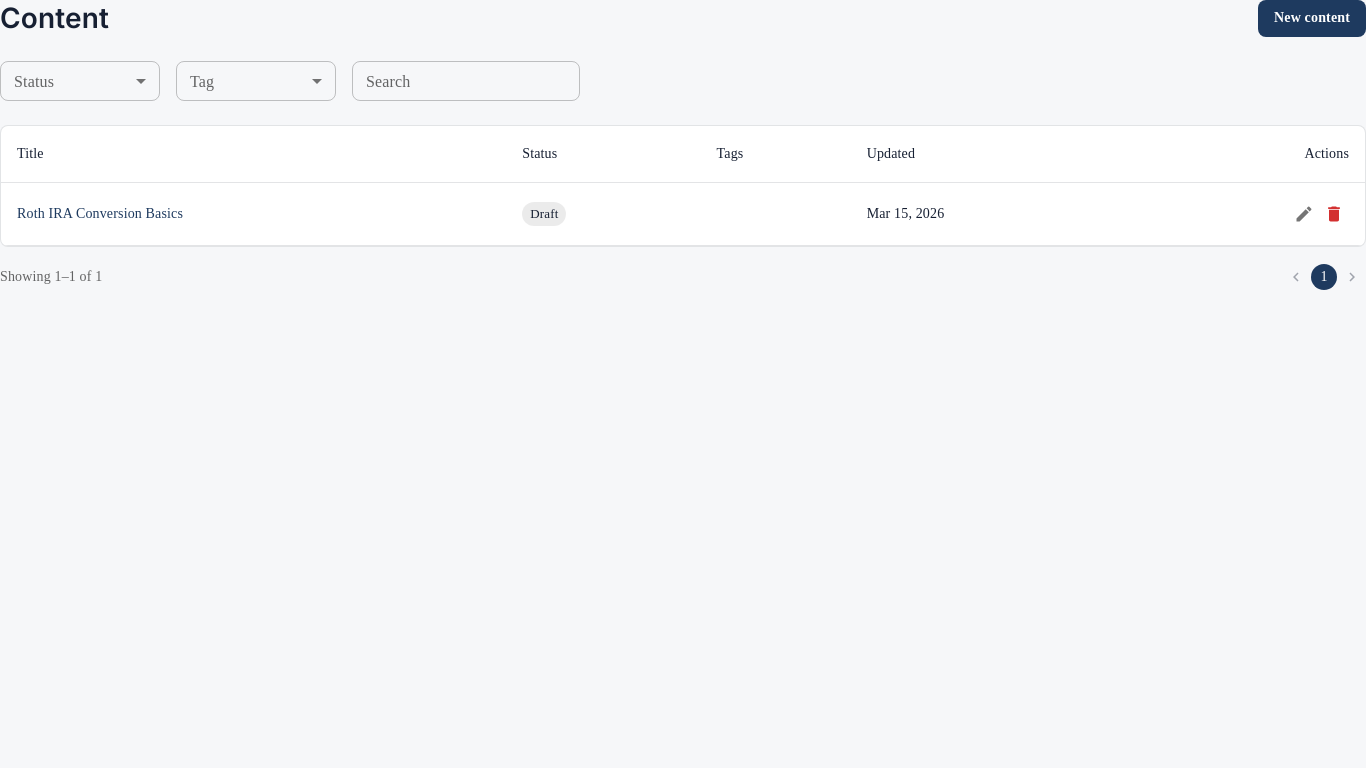
Test case: ContentListScreen delete-error surfacing › a DELETE 500 with an envelope body keeps the dialog open and shows the message as an alert; retrying then succeeds
The width and height of the screenshot is (1366, 768).
Expected: the row "Roth IRA Conversion Basics Draft Mar 15, 2026" is shown, x1=1 y1=182 x2=1365 y2=245
Click the button named "Delete Roth IRA Conversion Basics" at (1334, 214), box x1=1319 y1=198 x2=1349 y2=228
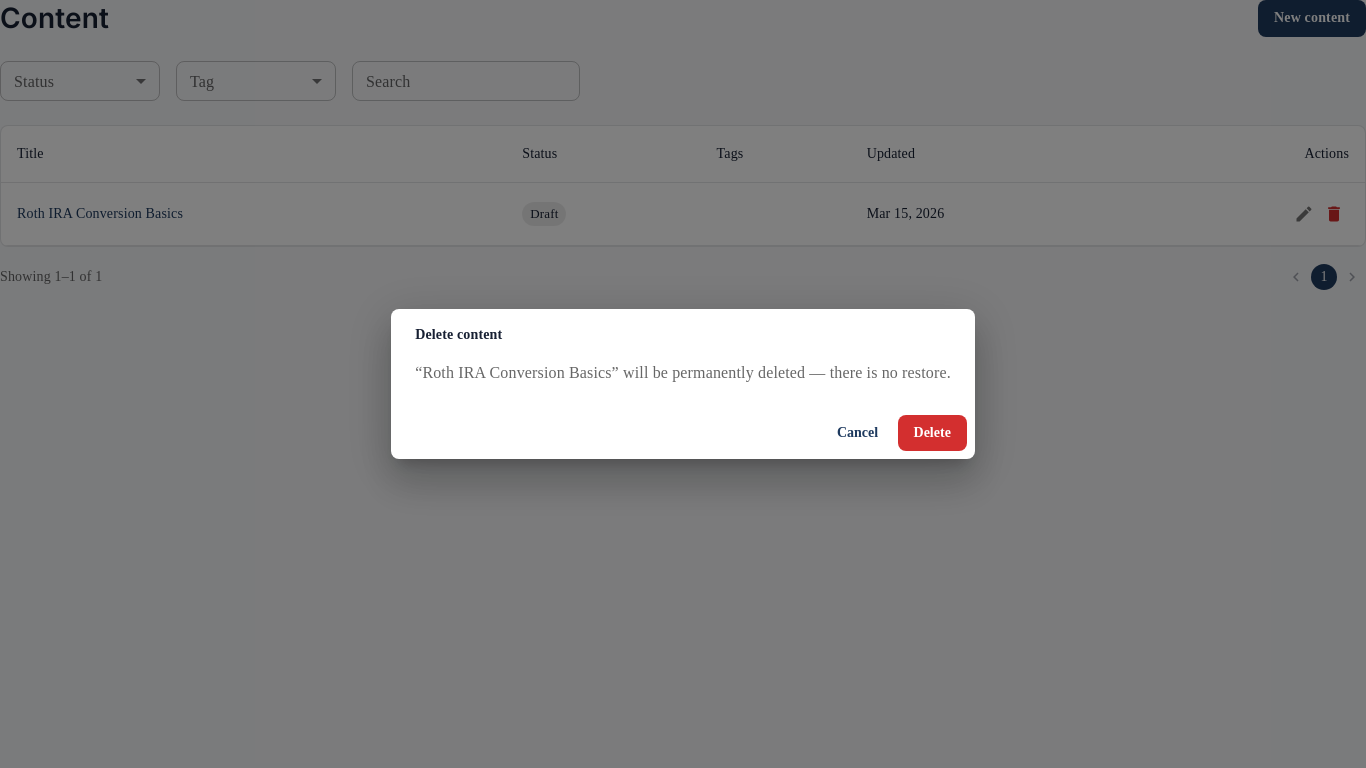
Click the button "Delete" at (932, 433), box x1=898 y1=415 x2=967 y2=451
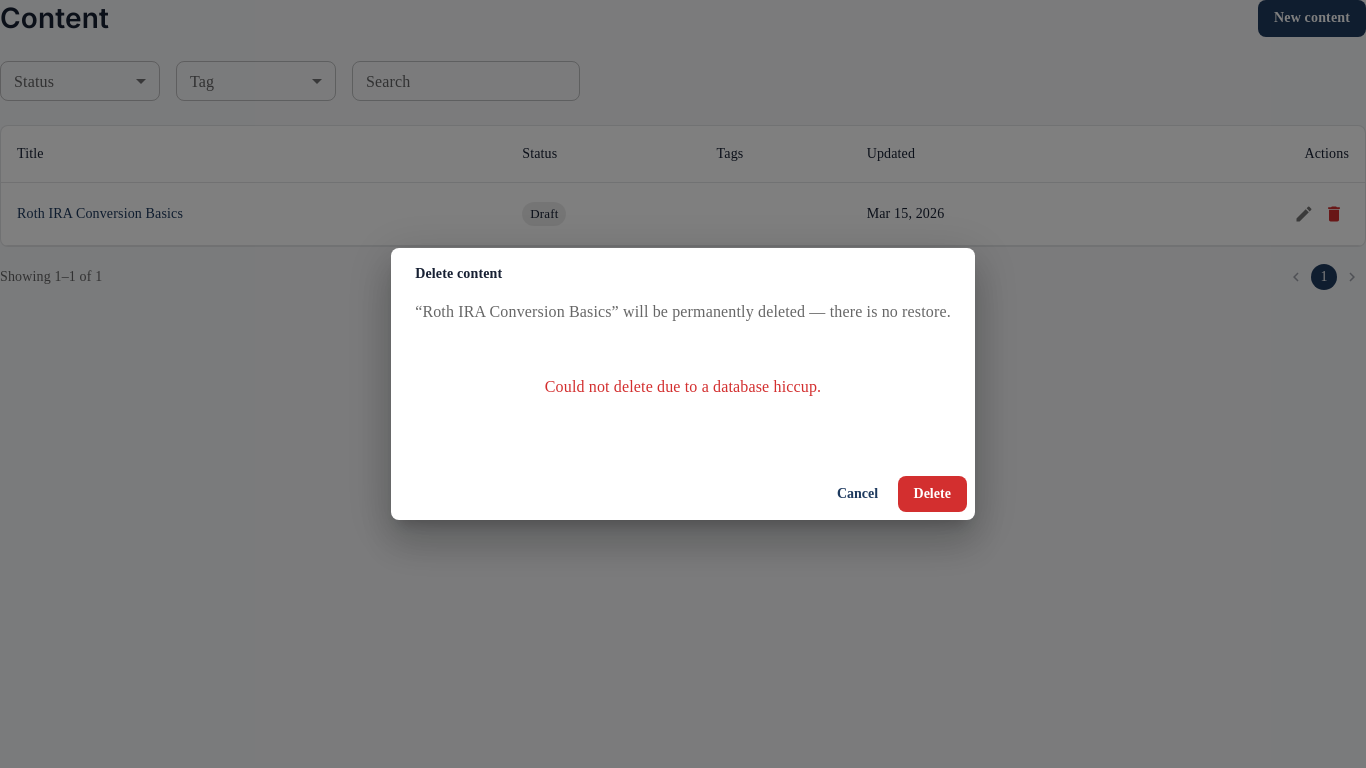
Expected: the dialog is shown, x1=391 y1=248 x2=975 y2=520
Expected: the message reads "Could not delete due to a database hiccup.", x1=545 y1=378 x2=821 y2=394
Click the button "Delete" at (932, 494), box x1=898 y1=476 x2=967 y2=512
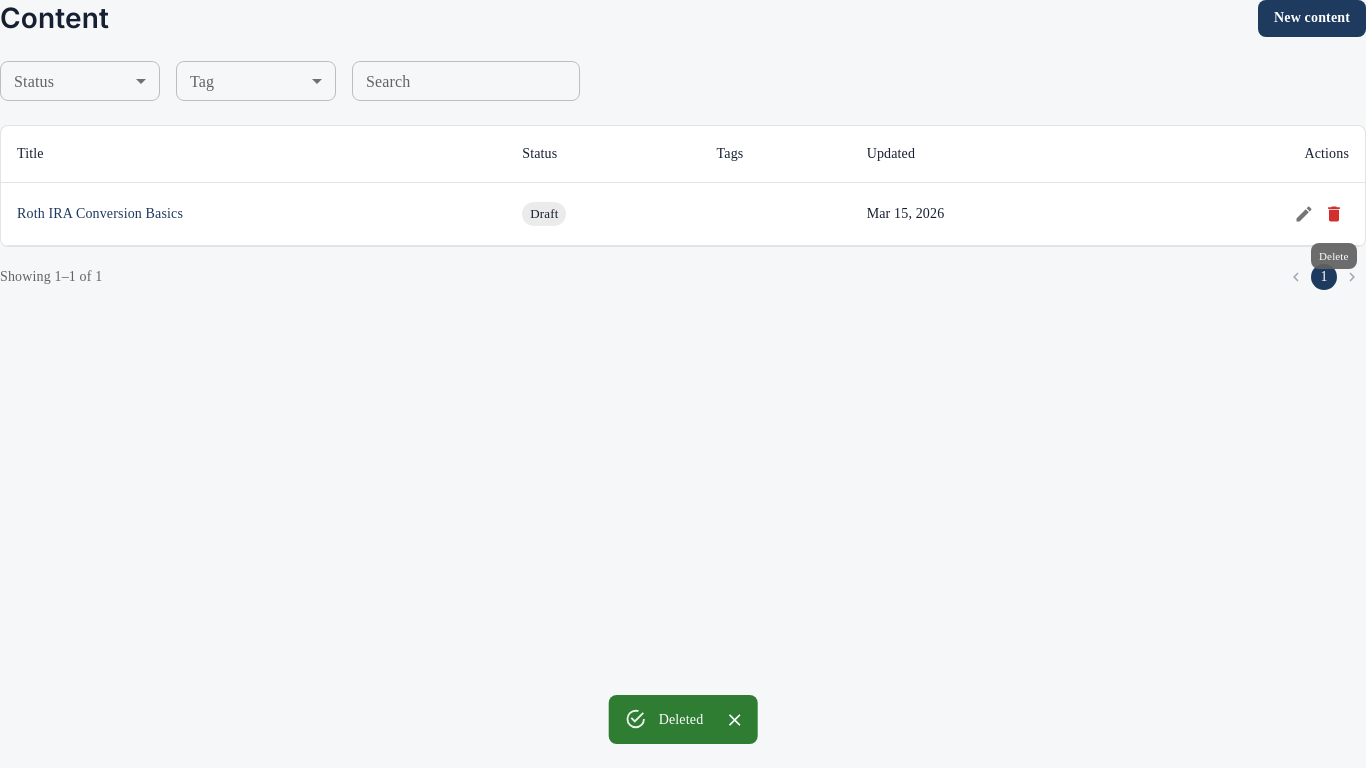
Expected: the dialog is gone
